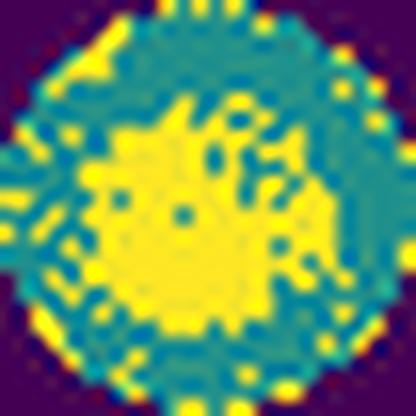Center: (80, 130, 336, 332)
